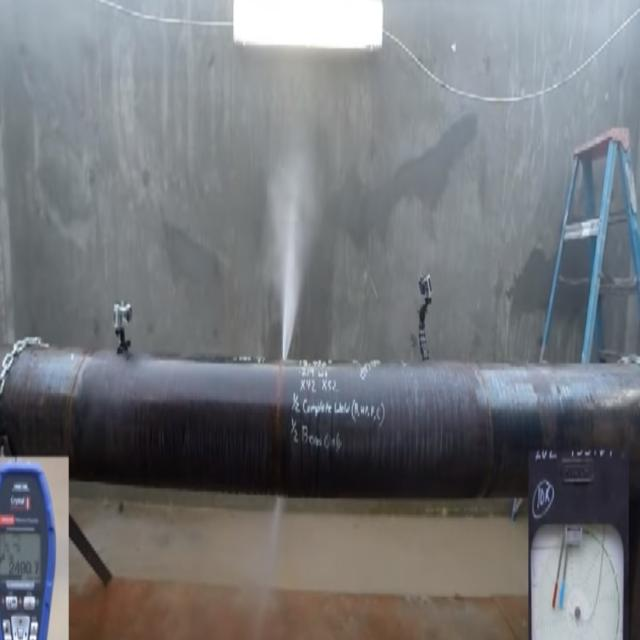leak: (268, 154, 312, 360)
